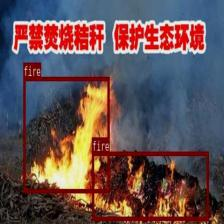fire: (23, 76, 109, 192), (91, 151, 208, 220)
